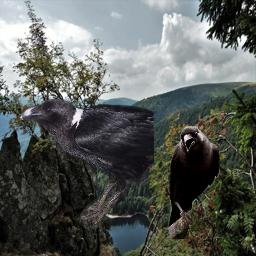Crow: (19, 98, 154, 230), (167, 126, 220, 239)
